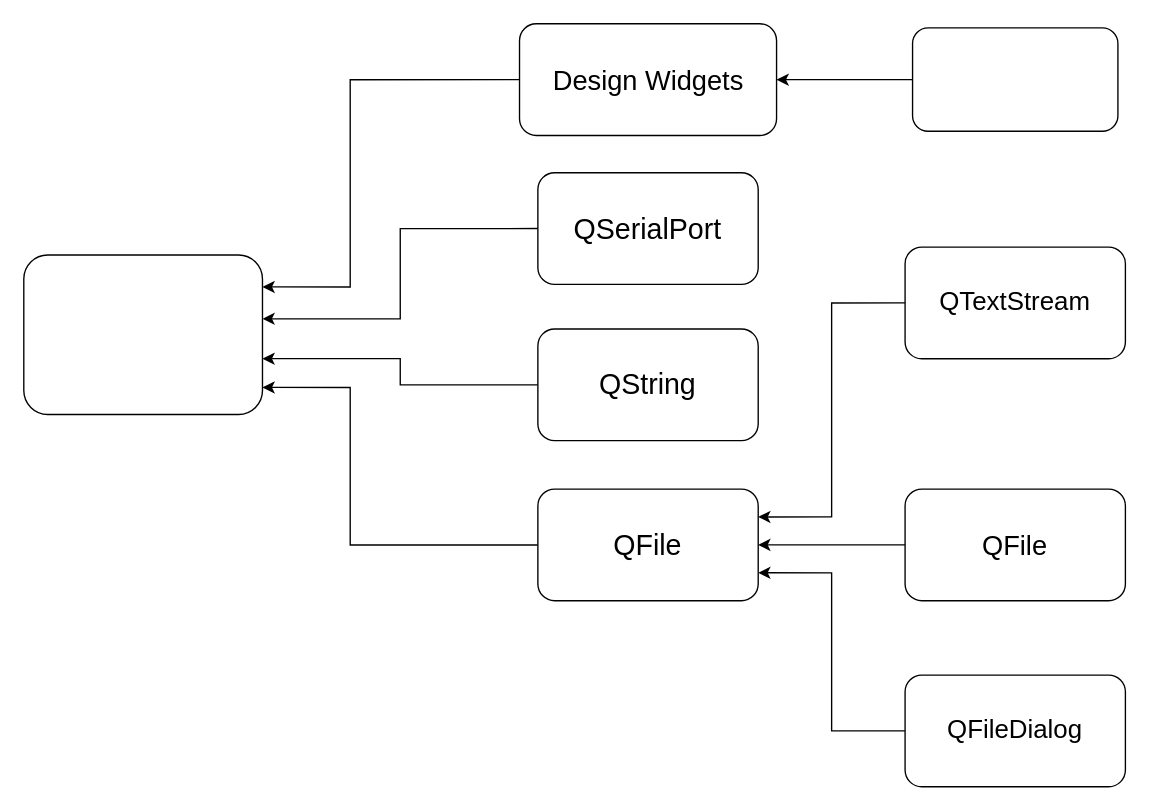
This 1149x811 diagram has some shape labels left out. The box of each missing label's shape, as (x1, y1, x2, y2) in pixels:
Phần mềm (software): (22, 254, 262, 415)
QMessageBox: (911, 27, 1118, 131)
